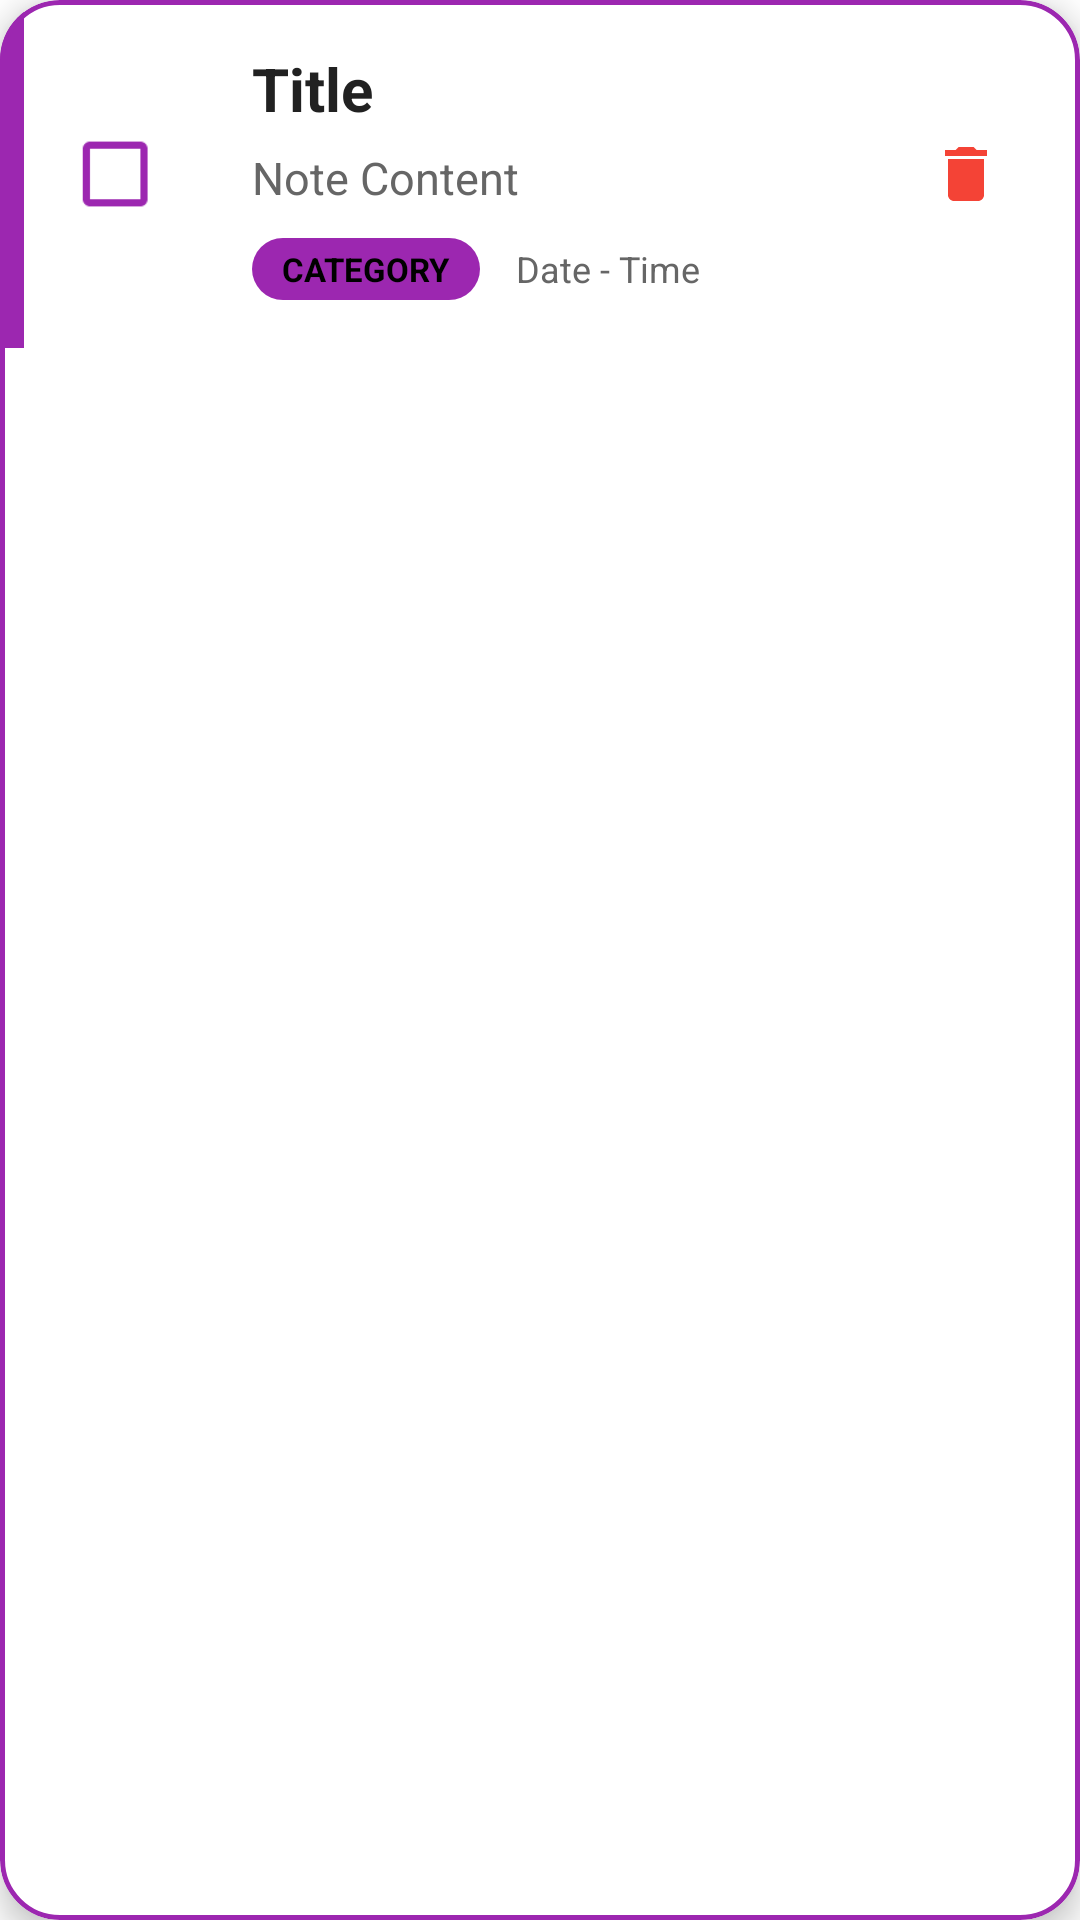

Point at icon controls on the screen. Image size 1080x1920, points as [x,y].
Delete Note: [966,174]
